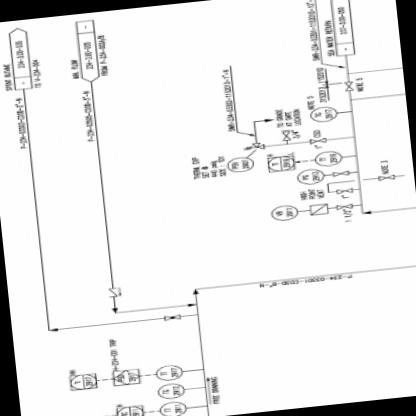LMI: (260, 200, 300, 223), (154, 380, 186, 399), (294, 166, 325, 185), (154, 362, 184, 381), (224, 155, 254, 174), (314, 148, 344, 167), (157, 398, 189, 415), (309, 104, 338, 122)
TAG: (261, 153, 297, 174), (65, 371, 99, 392), (114, 403, 146, 415)
